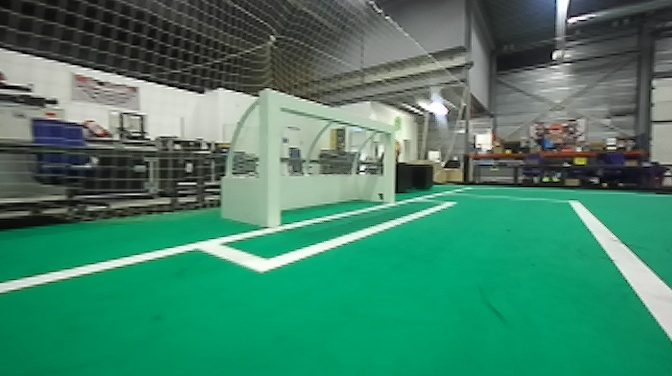goalpost: (256, 85, 287, 229), (380, 125, 403, 215)
